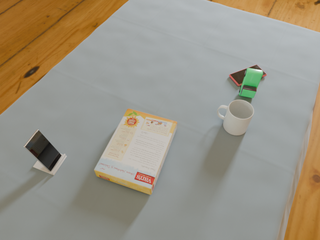box: (94, 109, 177, 195)
cup: (217, 100, 254, 135)
phone: (24, 130, 61, 171), (229, 65, 267, 86)
toy_car: (239, 68, 263, 98)
